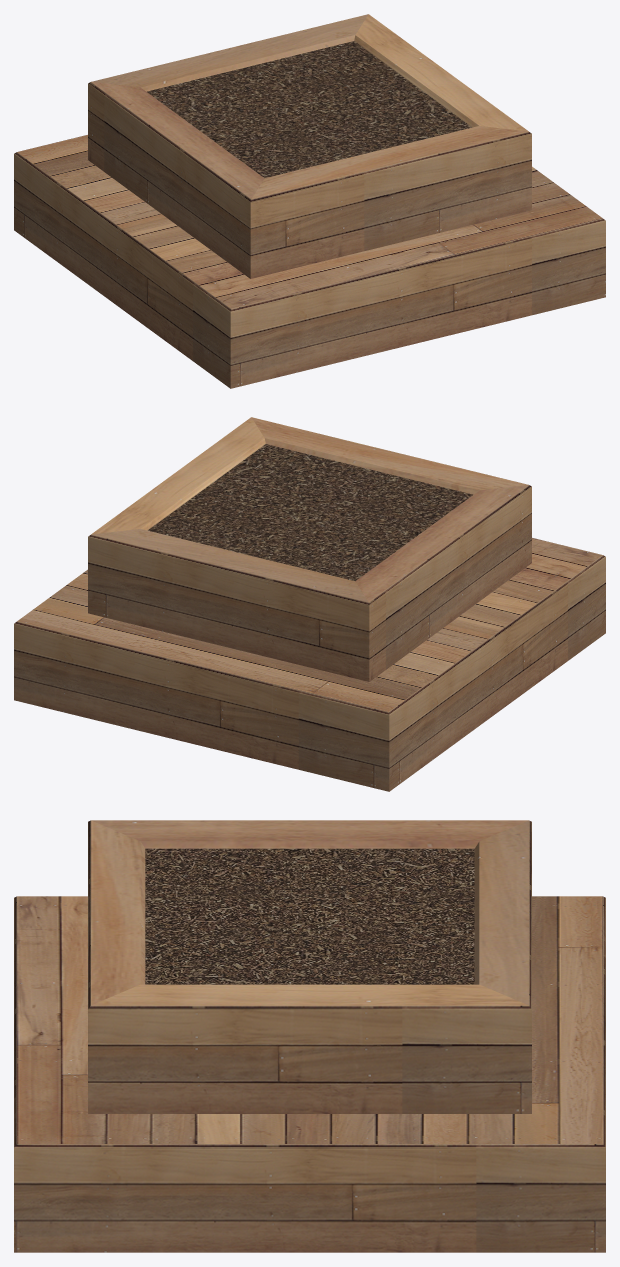
Rendered from flower_bed_h.FBX.
3 views of the same model, one above another, from view 1: azimuth 30°, elevation 25°; view 2: azimuth 150°, elevation 25°; view 3: azimuth 270°, elevation 25° (orthographic). The views are drawn at different scales.
Visible parts, largest first — view 1: flower_bed_h; view 2: flower_bed_h; view 3: flower_bed_h.
Part boxes in pixels (box(x1,y1,x2,y2)): flower_bed_h: box(14, 14, 605, 388); flower_bed_h: box(14, 417, 605, 791); flower_bed_h: box(14, 820, 605, 1252).
Bounding box in the file's own units: 200 × 80 × 200.
